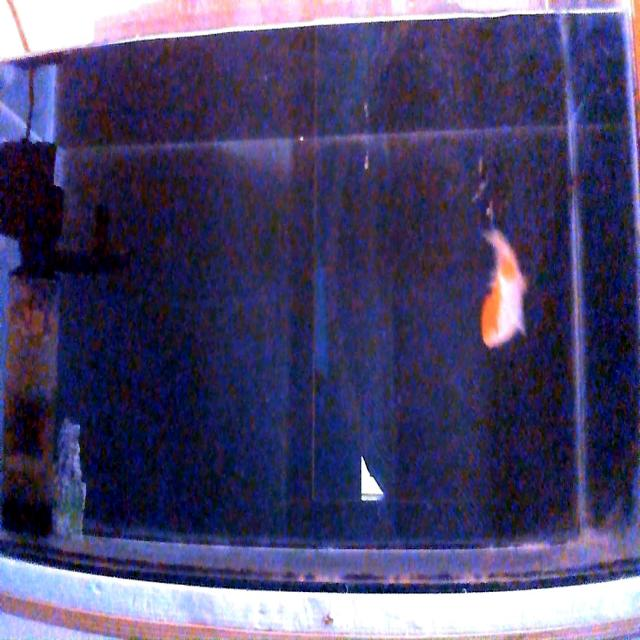fish: (479, 229, 530, 348)
